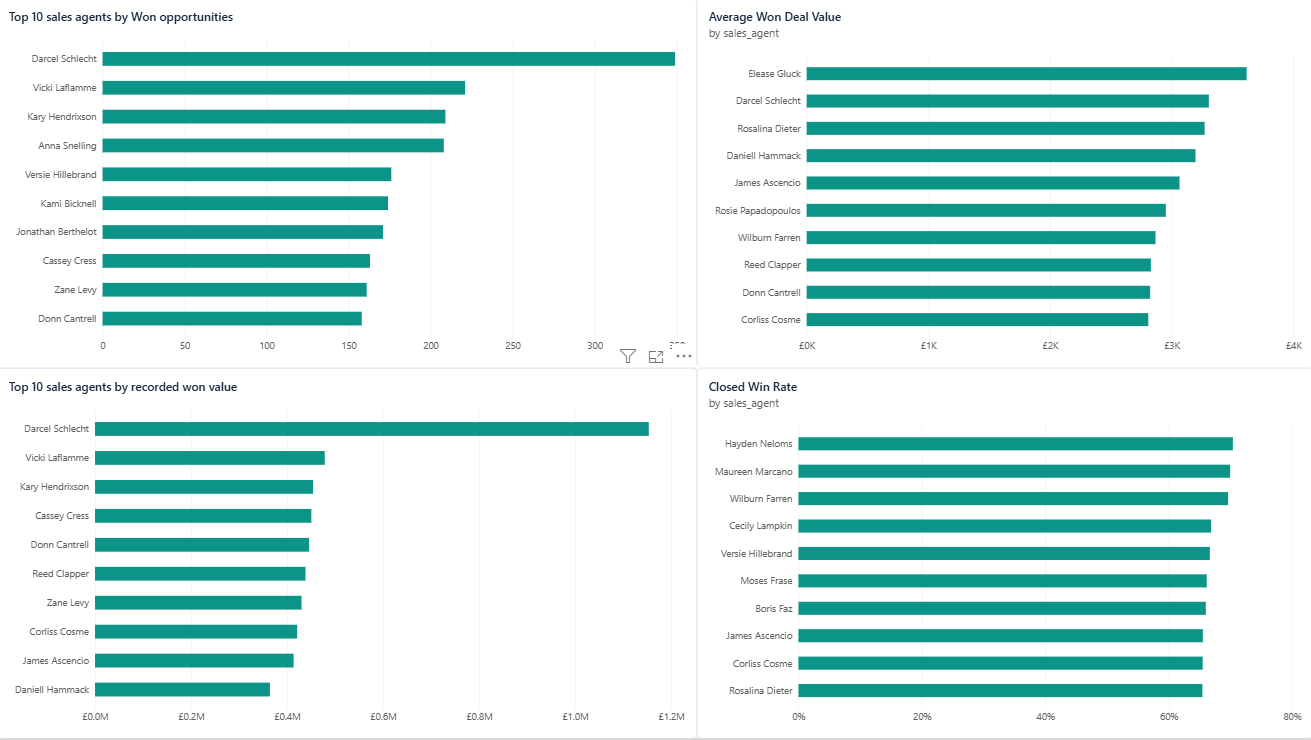

This screenshot's page, from the dashboard's own definition file:
{"tool":"powerbi","page":{"name":"Sale Perfromance","canvas":[1920,1080],"ordinal":2},"visuals":[{"type":"clusteredBarChart","title":"Top 10 sales agents by Won opportunities","fields":{"Category":["sales_pipeline.sales_agent"],"Y":["CountNonNull(sales_pipeline.opportunity_id)"]},"box":[0,0,1020.7,539.6],"z":0},{"type":"clusteredBarChart","title":"Top 10 sales agents by recorded won value","fields":{"Category":["sales_pipeline.sales_agent"],"Y":["sales_pipeline.Recorded Won Value"]},"box":[0,539.6,1020.7,541.1],"z":1000},{"type":"clusteredBarChart","fields":{"Category":["sales_pipeline.sales_agent"],"Y":["sales_pipeline.Average Won Deal Value"]},"box":[1020.7,0,899.3,539.6],"z":2000},{"type":"clusteredBarChart","fields":{"Category":["sales_pipeline.sales_agent"],"Y":["sales_pipeline.Closed Win Rate"]},"box":[1020.7,539.6,899.3,541.1],"z":3000}]}

Visuals, with their boxes in screenshot pixels (x1, y1, x2, y2), scaled from the page's 1920x1080 canvas onto the 1311x740 screenshot:
"Top 10 sales agents by Won opportunities" clusteredBarChart: <box>0,0,697,370</box>
"Top 10 sales agents by recorded won value" clusteredBarChart: <box>0,370,697,739</box>
clusteredBarChart - sales_pipeline.sales_agent x sales_pipeline.Average Won Deal Value: <box>697,0,1310,370</box>
clusteredBarChart - sales_pipeline.sales_agent x sales_pipeline.Closed Win Rate: <box>697,370,1310,739</box>
